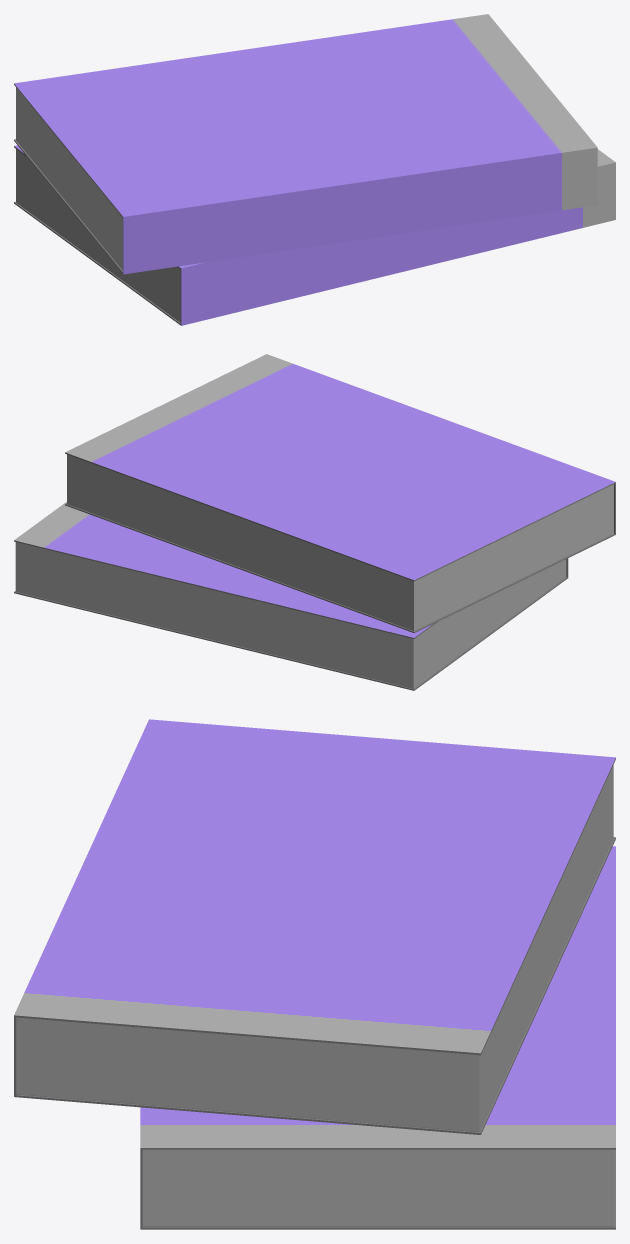
Rendered from books4.fbx.
3 views of the same model, one above another, from view 1: azimuth 30°, elevation 25°; view 2: azimuth 150°, elevation 25°; view 3: azimuth 270°, elevation 25° (orthographic). The views are drawn at different scales.
Parts seen in each view (by area): view 1: Book0.004; view 2: Book0.004; view 3: Book0.004.
Part boxes in pixels (bbox=[...]): Book0.004: bbox=[14, 14, 615, 325]; Book0.004: bbox=[14, 354, 615, 690]; Book0.004: bbox=[14, 719, 615, 1229].
Size of the model in its own units: 24.87 by 5.83 by 18.63.
